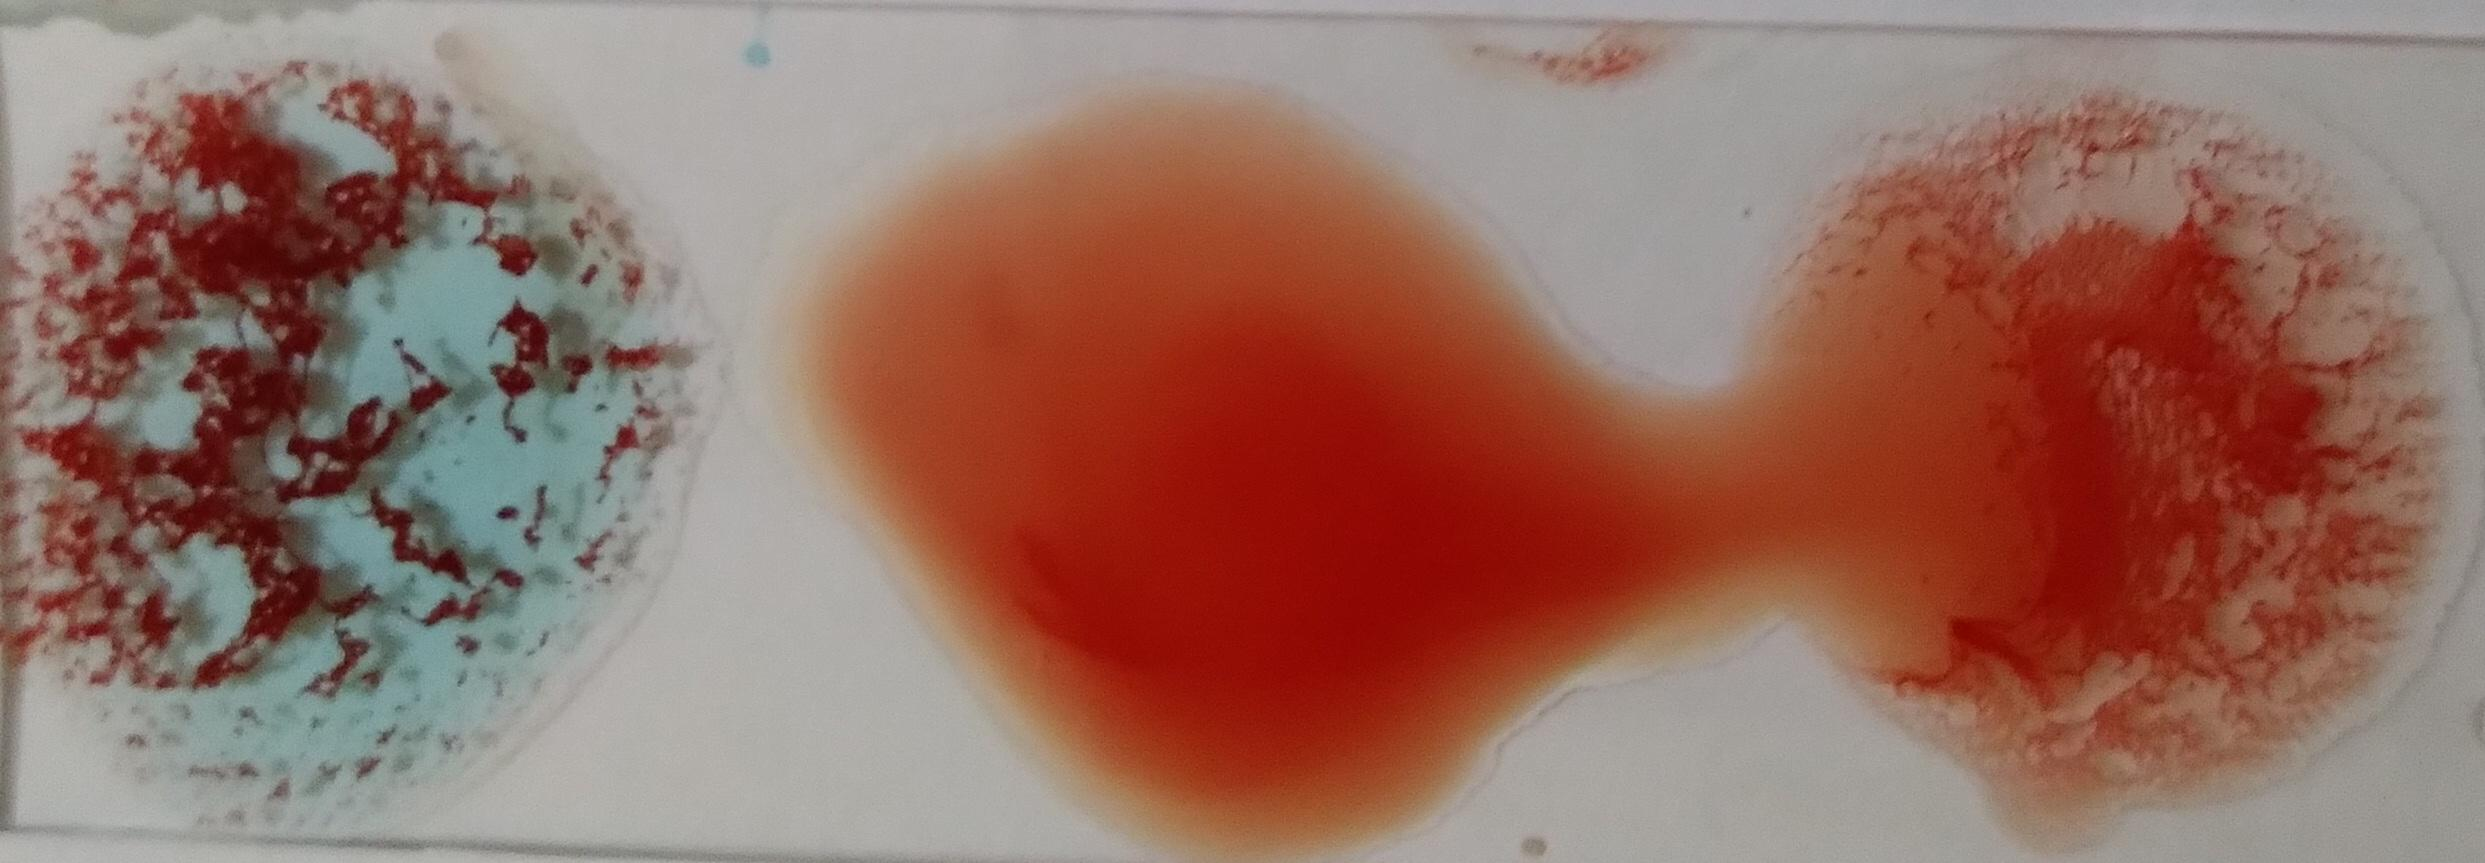A: (8, 63, 642, 789)
D: (2008, 89, 2442, 771)
